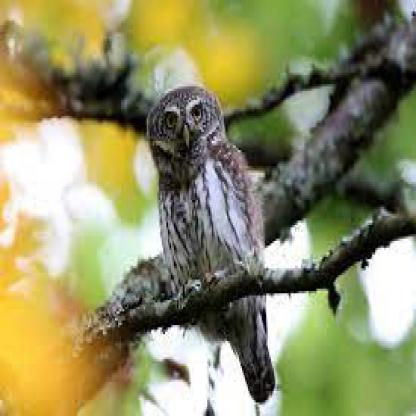owl: (122, 57, 352, 414)
